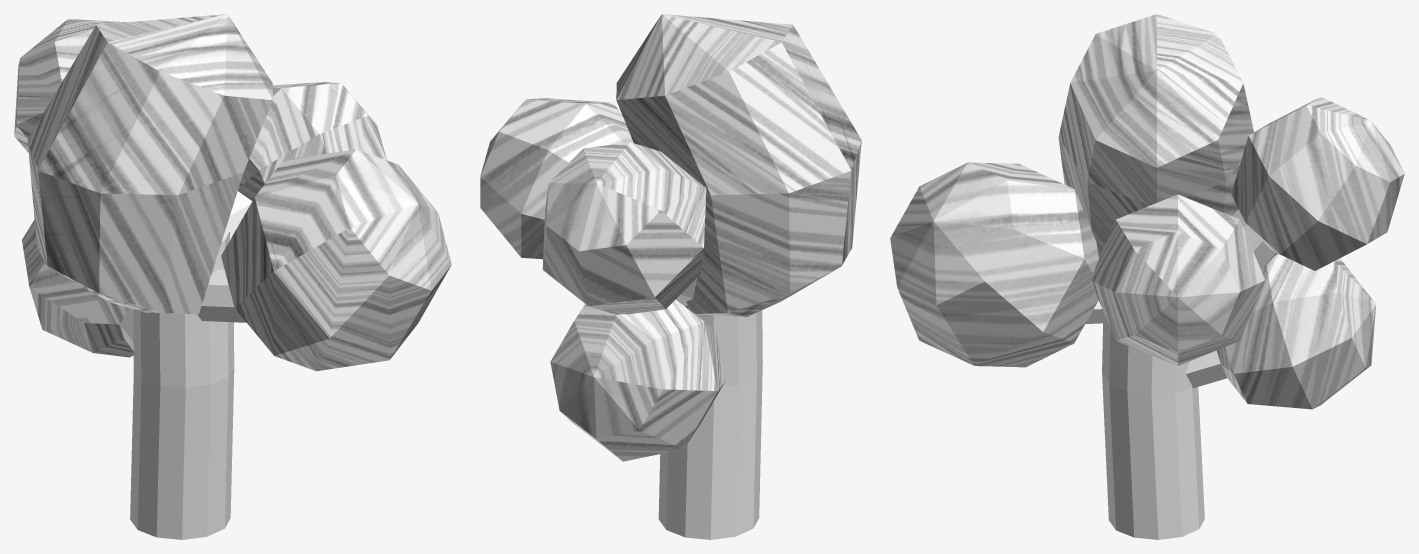
File: tree2.fbx
The picture shows the model from 3 angles, left to right: view 1: azimuth 30°, elevation 25°; view 2: azimuth 150°, elevation 25°; view 3: azimuth 270°, elevation 25°; orthographic projection. The views are drawn at different scales.
Visible parts, largest first — view 1: tree2; view 2: tree2; view 3: tree2.
Boxes of the visible parts, left/top/right/bottom form: tree2: left=14, top=14, right=451, bottom=539; tree2: left=480, top=14, right=861, bottom=539; tree2: left=890, top=14, right=1404, bottom=539.
Size of the model in its own units: 561 by 755 by 747.
